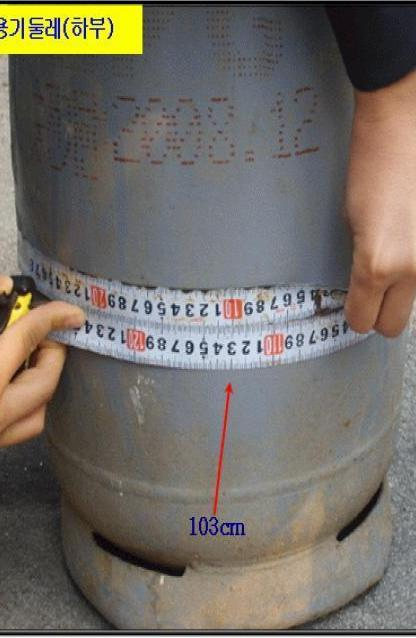cylinder: (1, 1, 416, 638)
